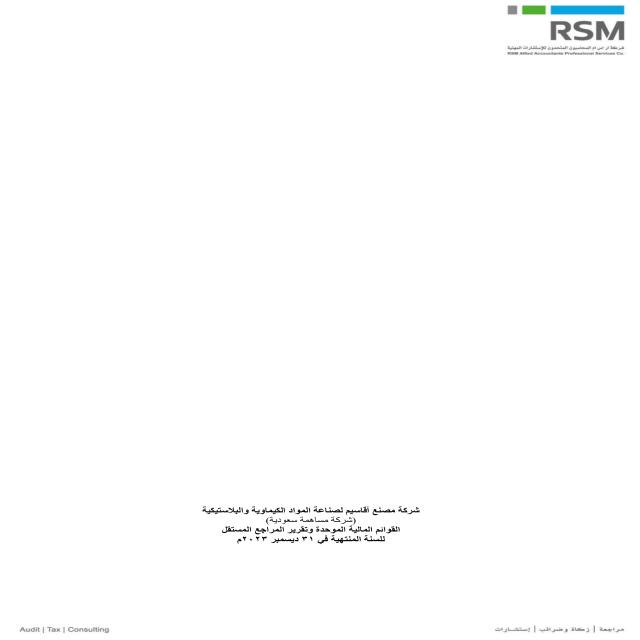other: (124, 444, 476, 590)
